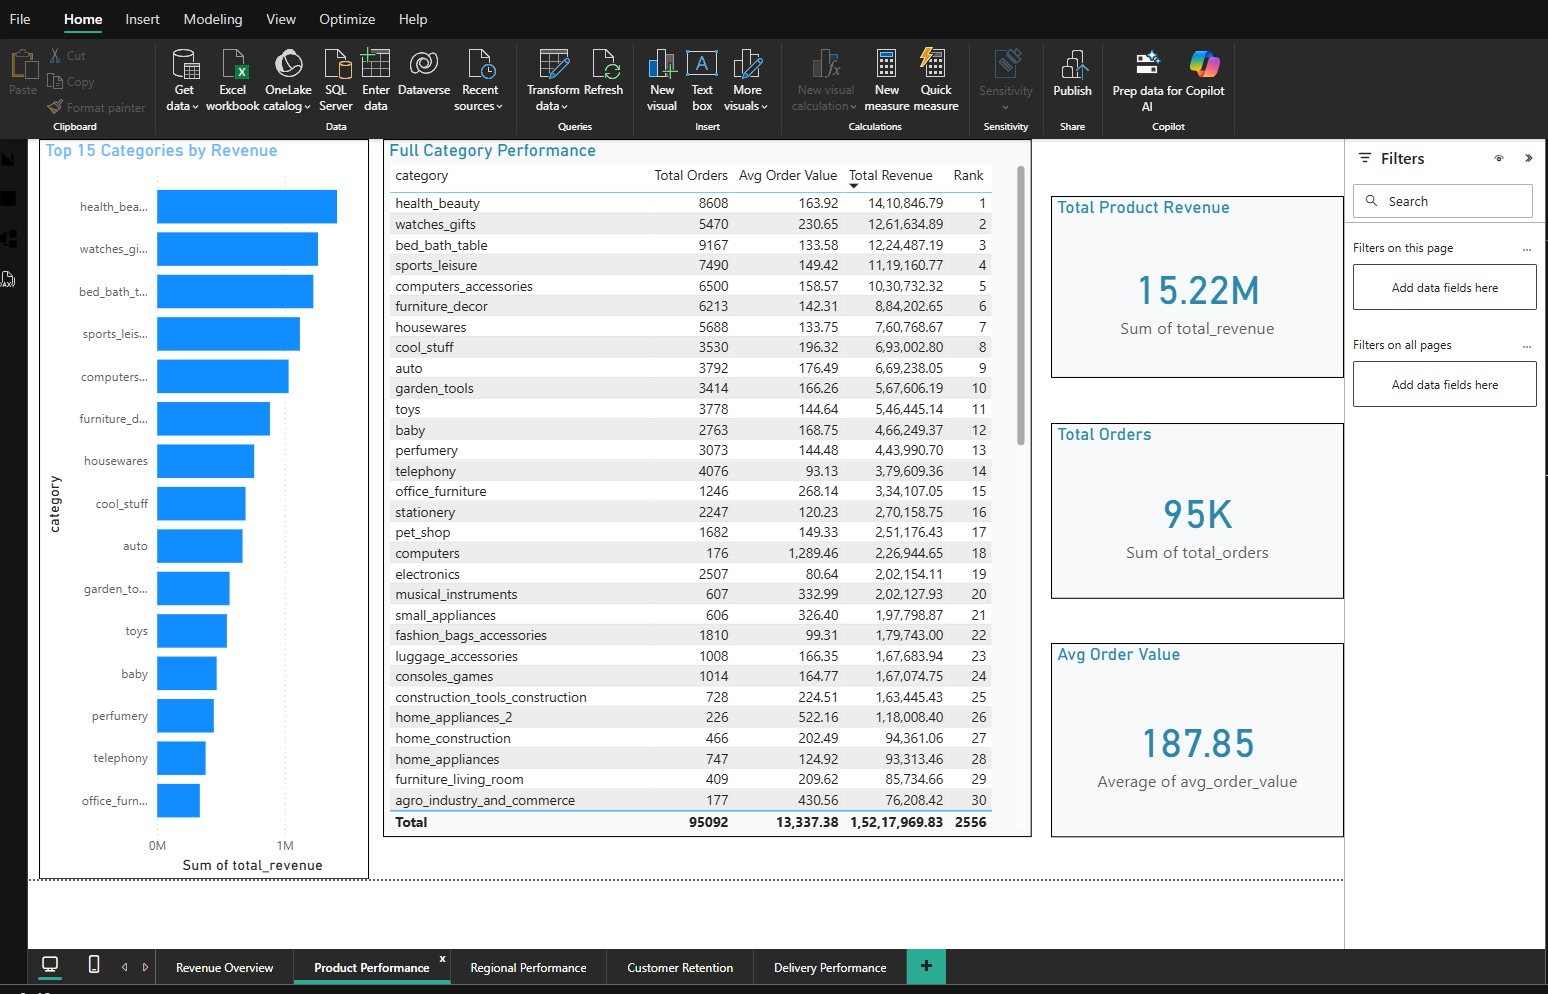

What the dashboard file says about the page in this screenshot:
{"tool":"powerbi","page":{"name":"Product Performance","canvas":[1280,720],"ordinal":1},"visuals":[{"type":"clusteredBarChart","title":"Top 15 Categories by Revenue","fields":{"Category":["kpi_top_products.category"],"Y":["Sum(kpi_top_products.total_revenue)"]},"box":[10.7,0,321,719.8],"z":0},{"type":"card","title":"Total Product Revenue","fields":{"Values":["Sum(kpi_top_products.total_revenue)"]},"box":[995,55.4,285,177],"z":1},{"type":"card","title":"Total Orders","fields":{"Values":["Sum(kpi_top_products.total_orders)"]},"box":[995,276.2,285,171.2],"z":2},{"type":"card","title":"Avg Order Value","fields":{"Values":["Avg(kpi_top_products.avg_order_value)"]},"box":[995,490.2,285,188.7],"z":3},{"type":"tableEx","title":"Full Category Performance","fields":{"Values":["kpi_top_products.category","Sum(kpi_top_products.total_orders)","Sum(kpi_top_products.avg_order_value)","Sum(kpi_top_products.total_revenue)","Sum(kpi_top_products.revenue_rank)"]},"box":[345.3,0,631.2,678.9],"z":4}]}

Visuals, with their boxes on the page's 1280x720 design canvas (x1, y1, x2, y2). These are canvas units, not pixel positions in the 1548x994 screenshot, which may show the page scaled, cropped or inside an application window:
"Top 15 Categories by Revenue" clusteredBarChart: box(11, 0, 332, 720)
"Total Product Revenue" card: box(995, 55, 1280, 232)
"Total Orders" card: box(995, 276, 1280, 447)
"Avg Order Value" card: box(995, 490, 1280, 679)
"Full Category Performance" tableEx: box(345, 0, 976, 679)
